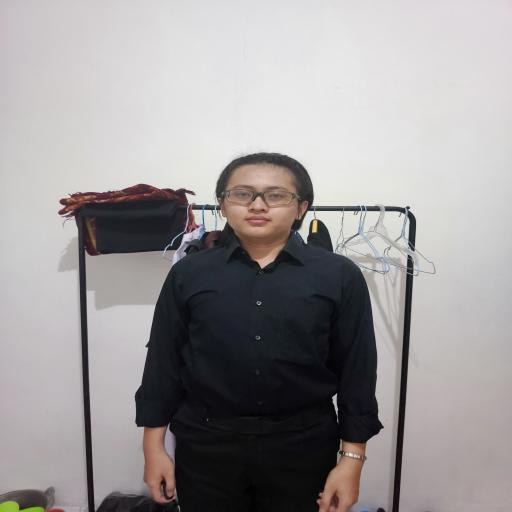celana_benar: (170, 425, 342, 512)
kemeja_salah: (148, 251, 386, 414)
sabuk_ada: (170, 402, 343, 440)
